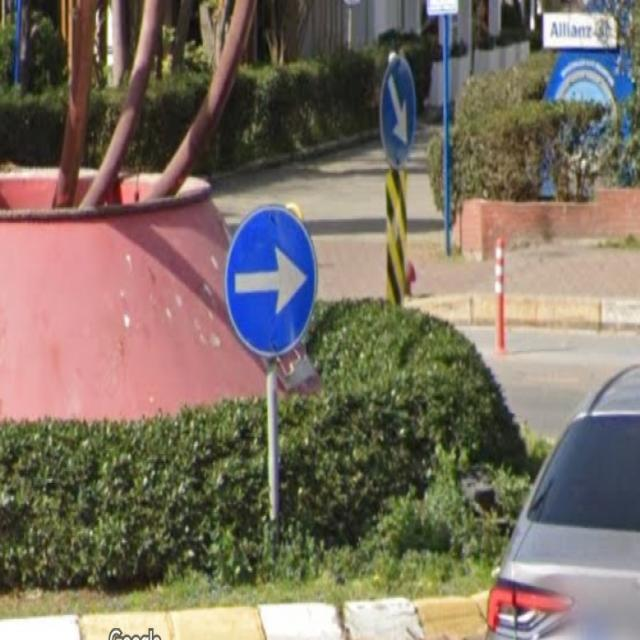Turn Right: (229, 208, 320, 361)
